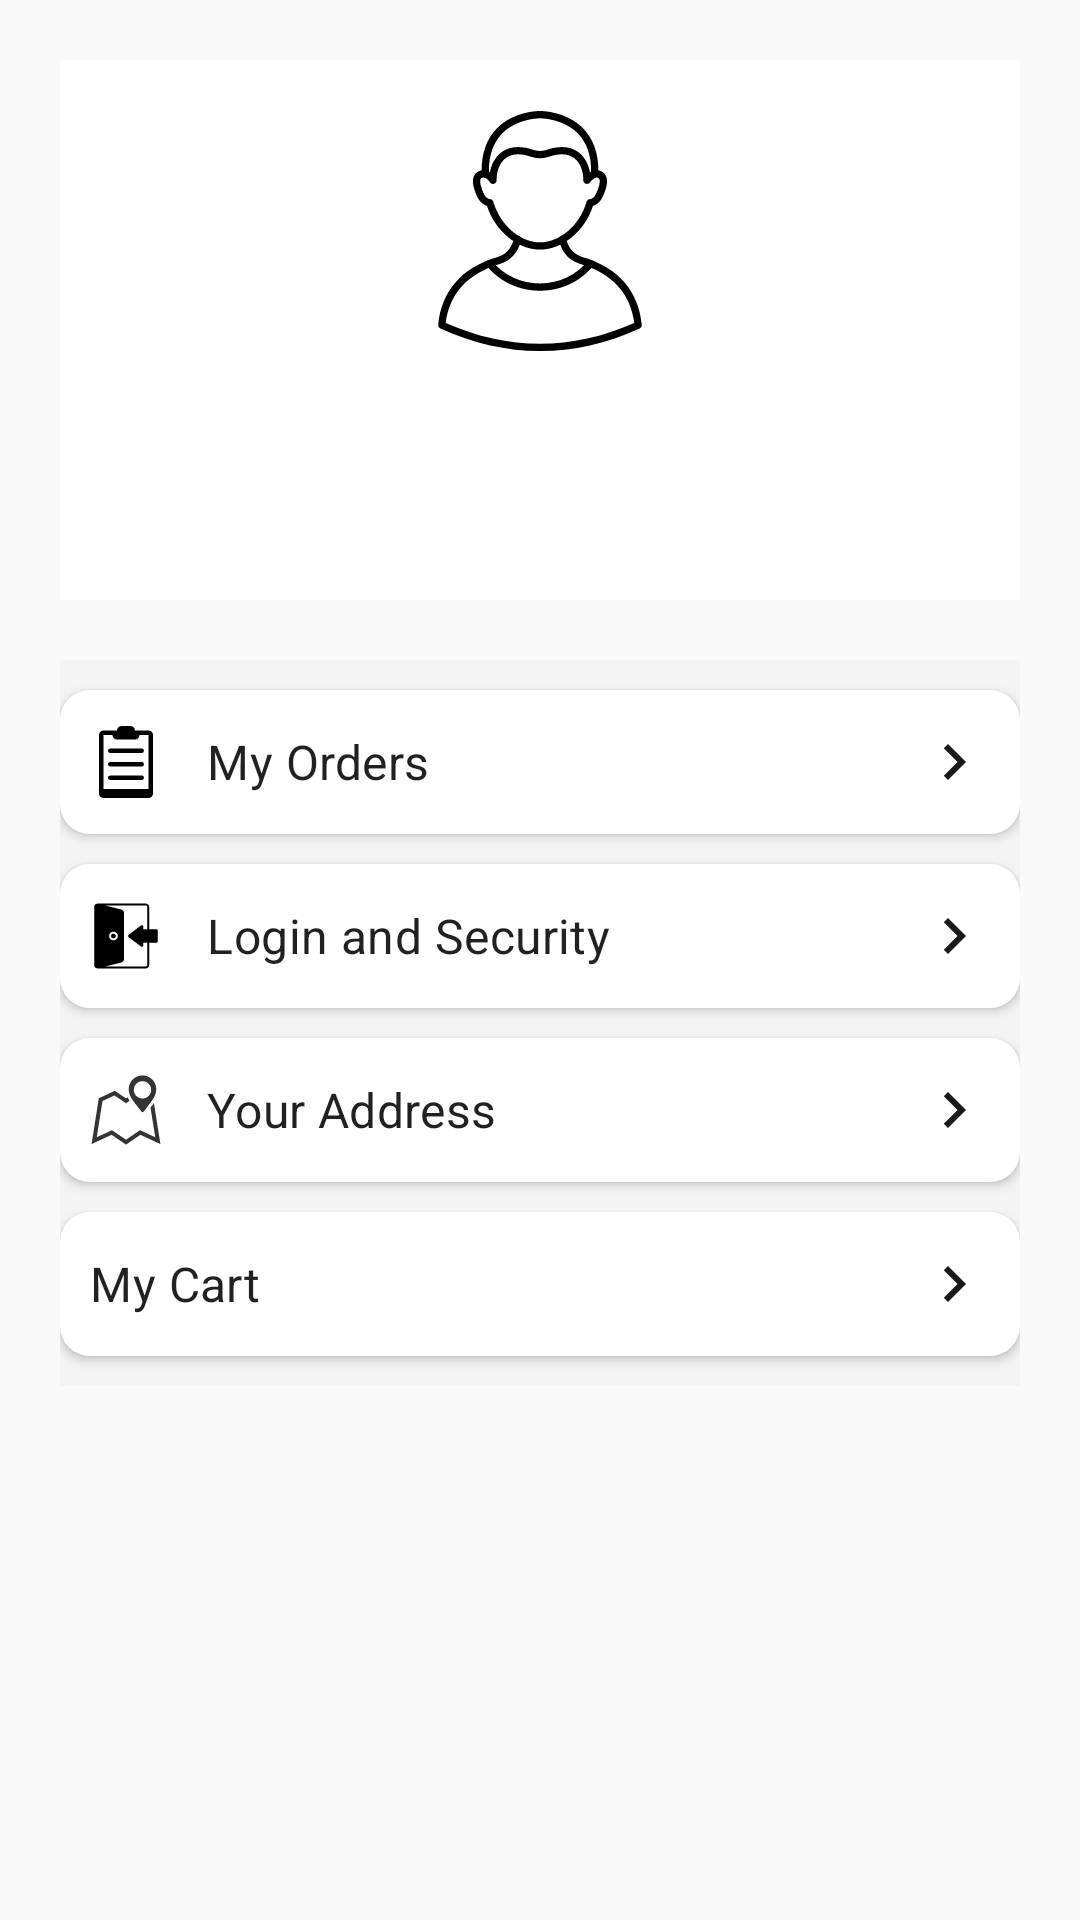

Screen size 1080px x 1920px. Icon name, then its center in pixels as (x,y):
profile: (540,231)
